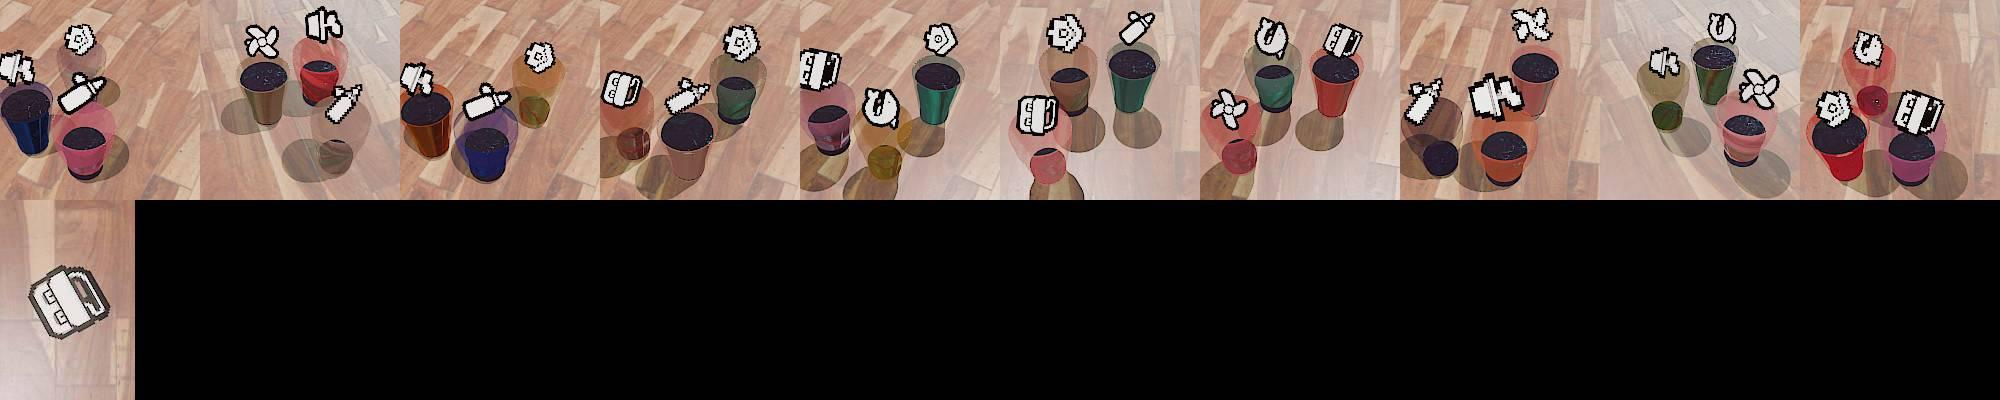icon: (27, 264, 111, 340), (1467, 73, 1524, 121), (1892, 89, 1945, 136), (56, 70, 107, 115), (462, 80, 514, 122), (1404, 74, 1445, 124), (798, 47, 843, 92), (663, 75, 712, 116), (1737, 68, 1781, 112), (324, 80, 365, 124), (1209, 88, 1250, 131), (1015, 94, 1056, 136), (601, 69, 644, 108), (1046, 13, 1085, 55), (861, 85, 901, 127), (1321, 20, 1364, 60), (1510, 6, 1552, 45), (242, 23, 282, 61), (1814, 89, 1853, 127), (721, 23, 760, 61), (304, 5, 343, 43), (1255, 17, 1290, 59), (0, 50, 37, 87), (1119, 10, 1154, 47), (399, 61, 434, 98), (923, 20, 958, 56), (1851, 29, 1884, 66), (523, 41, 556, 74), (64, 23, 97, 56), (1648, 46, 1682, 78), (1707, 11, 1737, 45)
